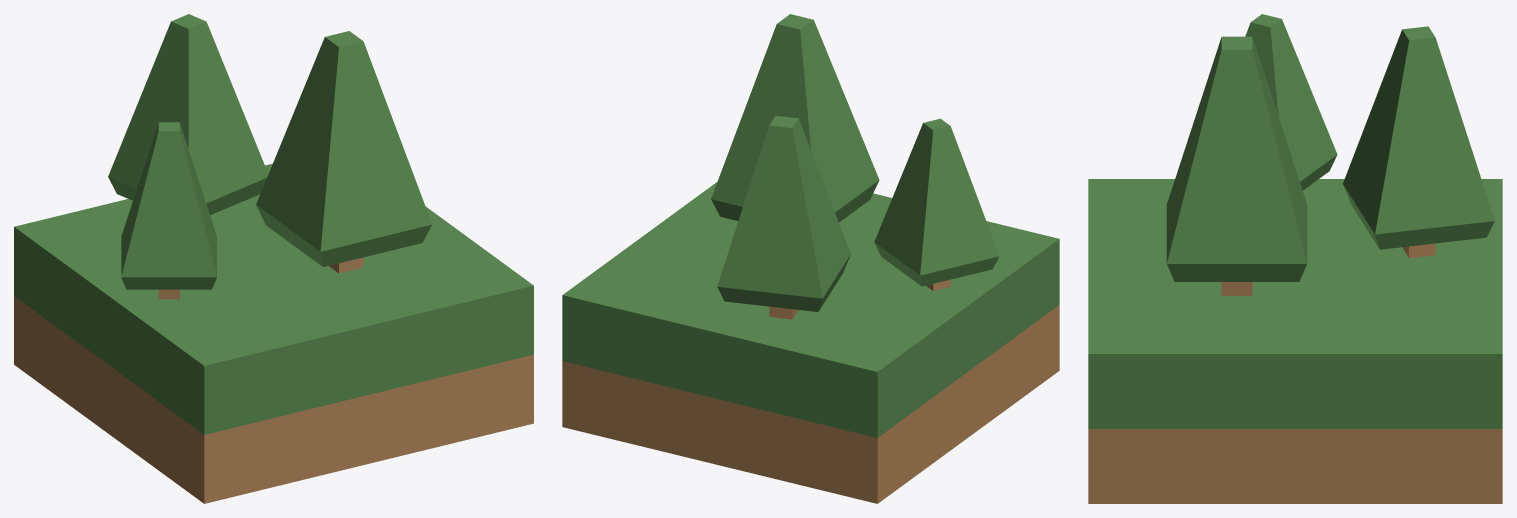
Rendered from towerDefense_061.obj.
3 renders of one model, left to right at view 1: azimuth 30°, elevation 25°; view 2: azimuth 150°, elevation 25°; view 3: azimuth 270°, elevation 25°, orthographic. The views are drawn at different scales.
Parts seen in each view (by area): view 1: Mesh4 Group1 Model, Mesh1 Component_2_1 Group1 Model, Mesh3 Component_2_3 Group1 Model, Mesh2 Component_2_2 Group1 Model; view 2: Mesh4 Group1 Model, Mesh3 Component_2_3 Group1 Model, Mesh1 Component_2_1 Group1 Model, Mesh2 Component_2_2 Group1 Model; view 3: Mesh4 Group1 Model, Mesh1 Component_2_1 Group1 Model, Mesh3 Component_2_3 Group1 Model, Mesh2 Component_2_2 Group1 Model.
Boxes of the visible parts, x1,y1,x2,y2 form: Mesh4 Group1 Model: (14, 163, 533, 503); Mesh1 Component_2_1 Group1 Model: (256, 31, 432, 273); Mesh3 Component_2_3 Group1 Model: (108, 14, 268, 215); Mesh2 Component_2_2 Group1 Model: (121, 122, 216, 299); Mesh4 Group1 Model: (562, 182, 1059, 503); Mesh3 Component_2_3 Group1 Model: (717, 116, 850, 319); Mesh1 Component_2_1 Group1 Model: (711, 14, 879, 222); Mesh2 Component_2_2 Group1 Model: (874, 118, 999, 290); Mesh4 Group1 Model: (1088, 179, 1502, 503); Mesh1 Component_2_1 Group1 Model: (1166, 36, 1307, 295); Mesh3 Component_2_3 Group1 Model: (1343, 26, 1494, 258); Mesh2 Component_2_2 Group1 Model: (1245, 14, 1337, 190).
Size of the model in its own units: 1.03 by 1.06 by 1.
